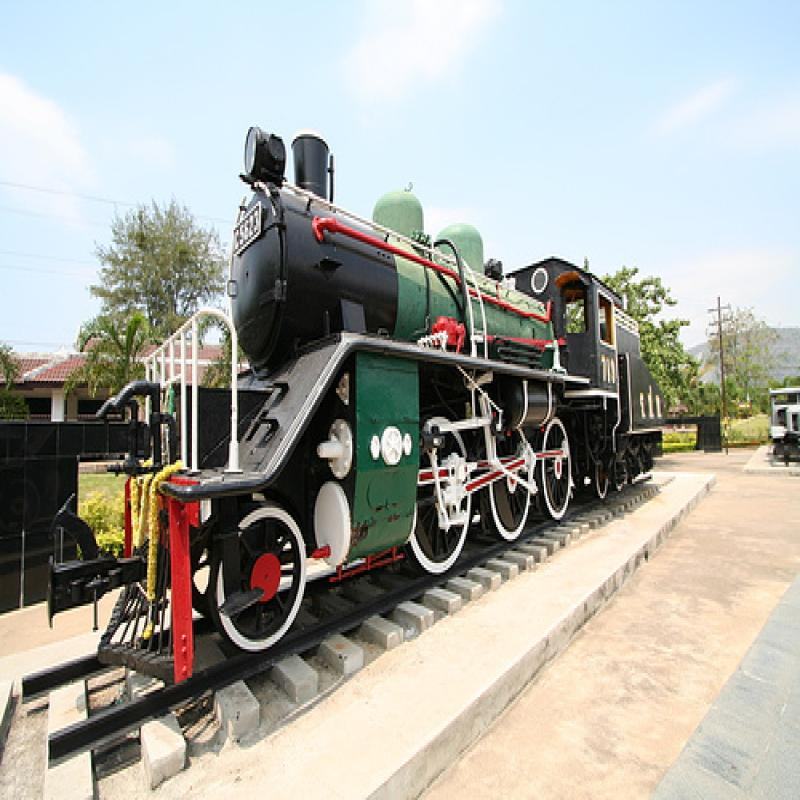train: (51, 126, 667, 693)
